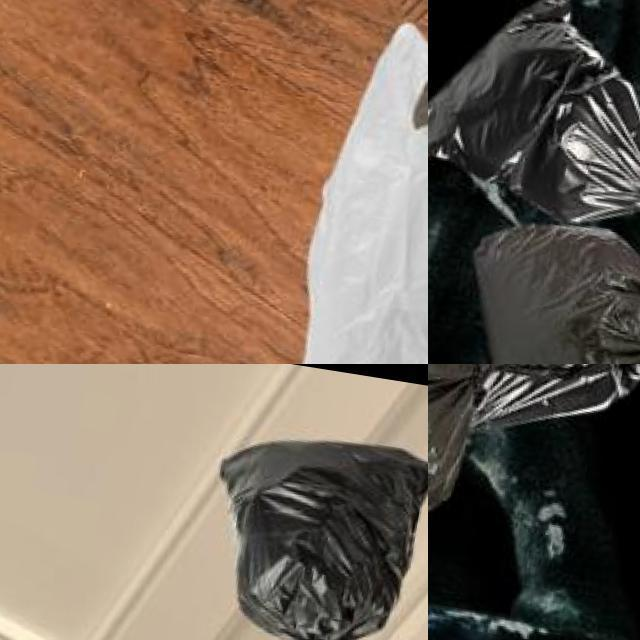waste: (276, 12, 428, 364), (208, 414, 428, 640), (428, 0, 640, 221), (437, 213, 640, 364), (440, 364, 640, 457), (428, 364, 503, 553)
